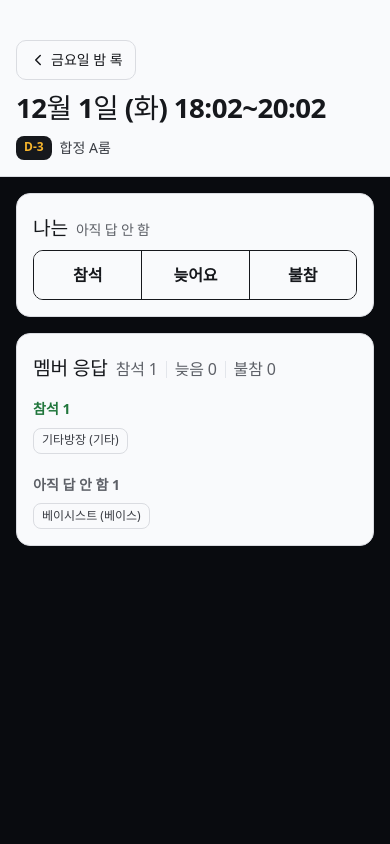
it: 합주 상세 › 늦어요로 답하면 서버에 보내고 응답이 바뀐다
The width and height of the screenshot is (390, 844).
Check: the text "아직 답 안 함 1" is shown, box [33, 475, 120, 494]
Click the button "늦어요".
click(195, 275)  # box [141, 251, 249, 299]
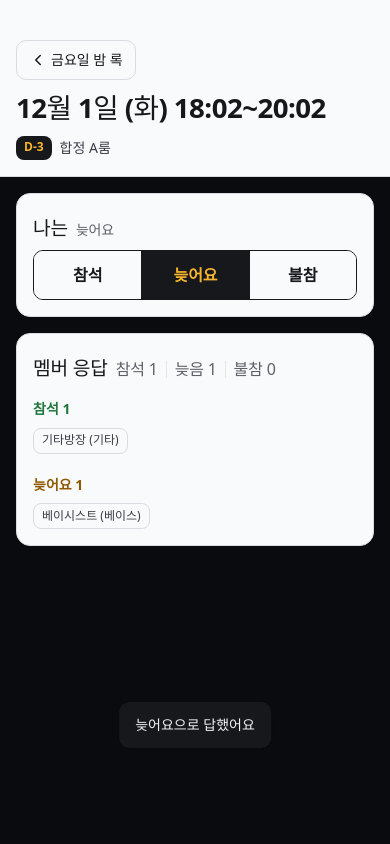
Check: the text "늦어요 1" is shown, box [33, 475, 83, 494]
